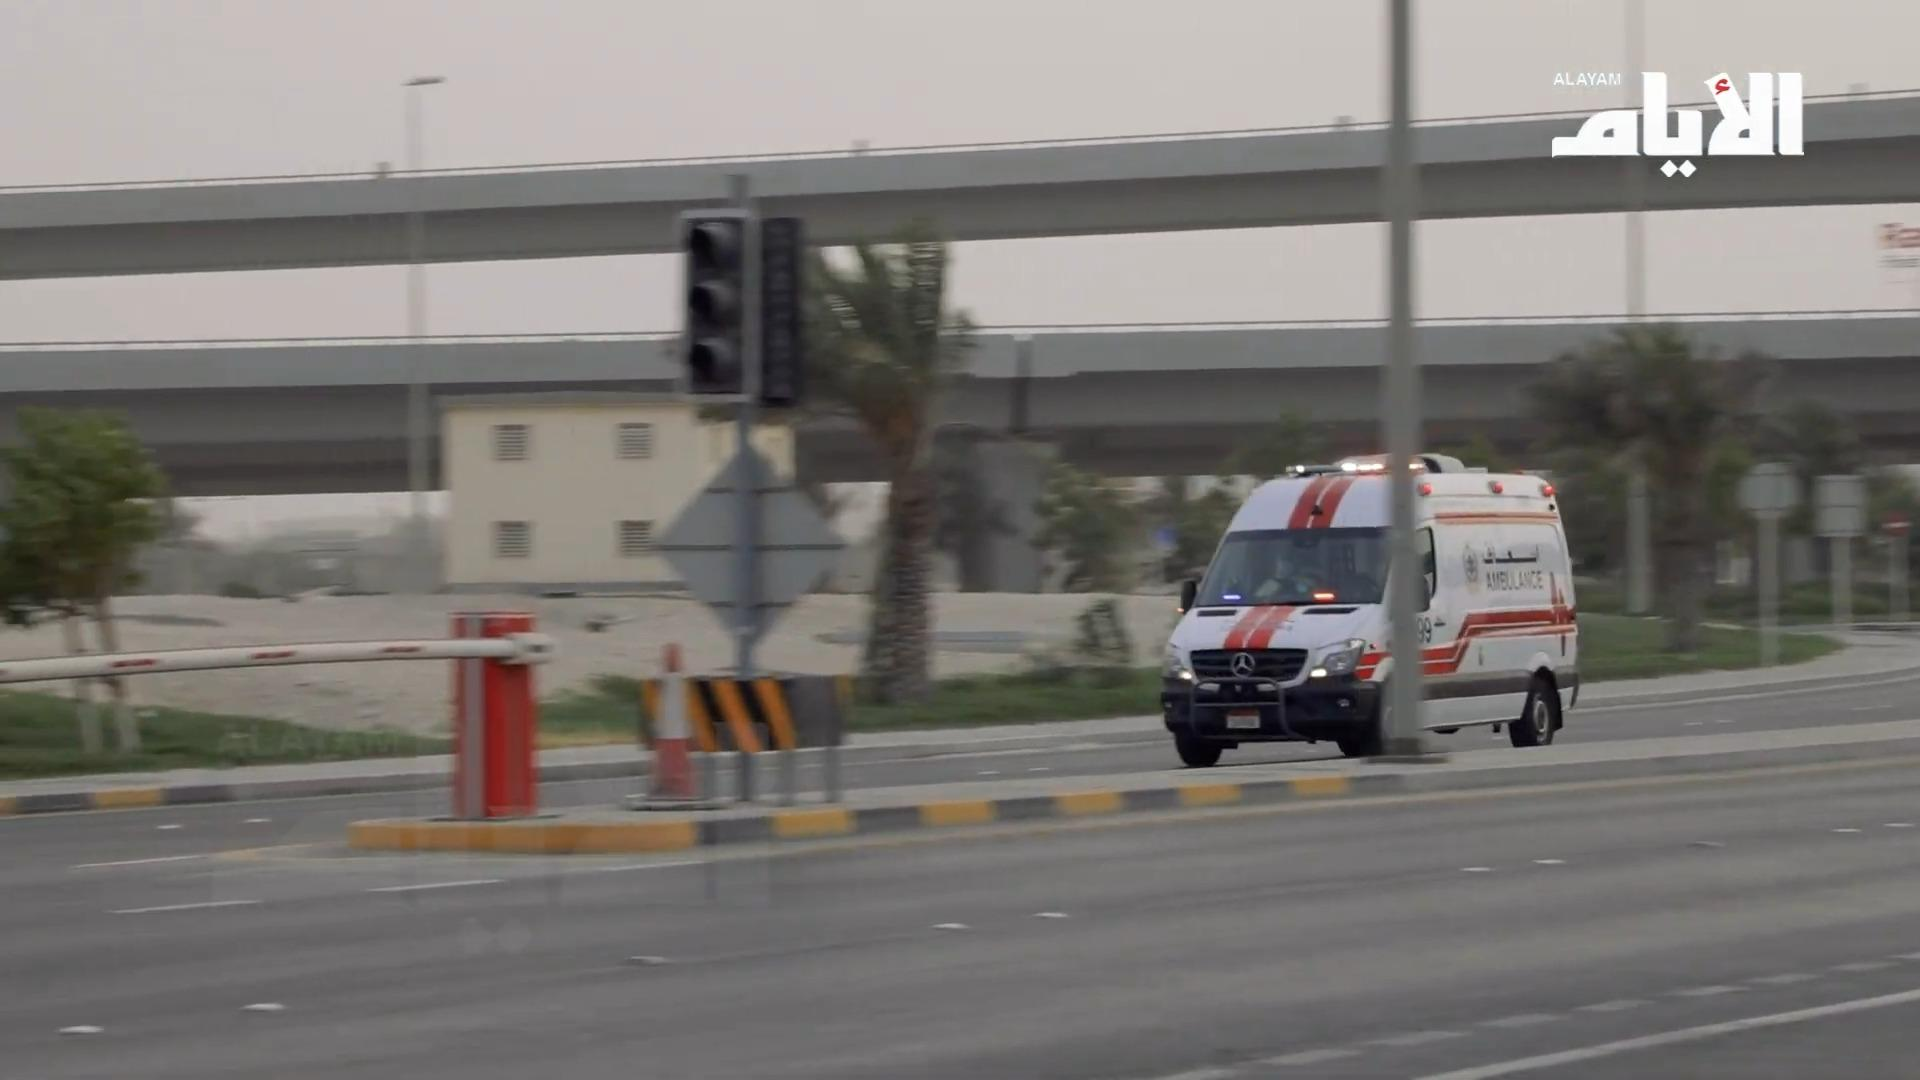ambulance_on: (1160, 450, 1578, 769)
